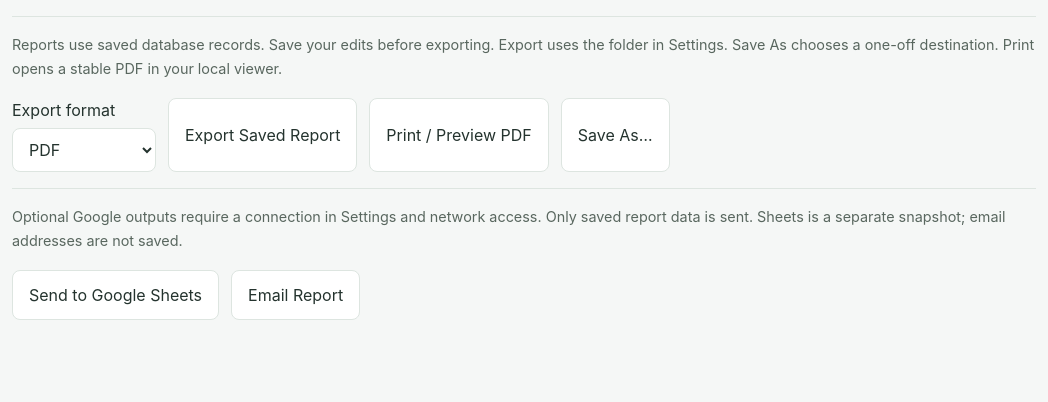
it: shows native cancellation and errors and sends only identifiers/filters
Select "CSV" in the dropdown labelled "Export format" at point(84, 150), box [12, 128, 156, 172]
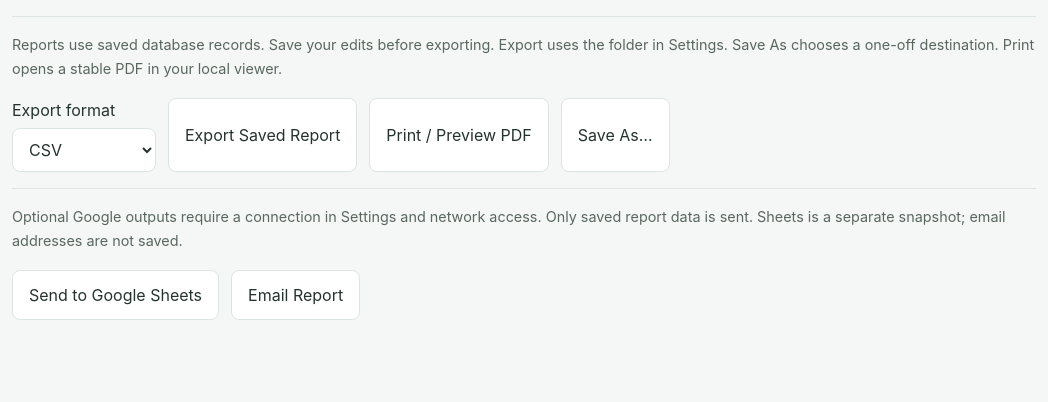
Click the button "Export Saved Report" at point(263, 135), box [168, 98, 357, 172]
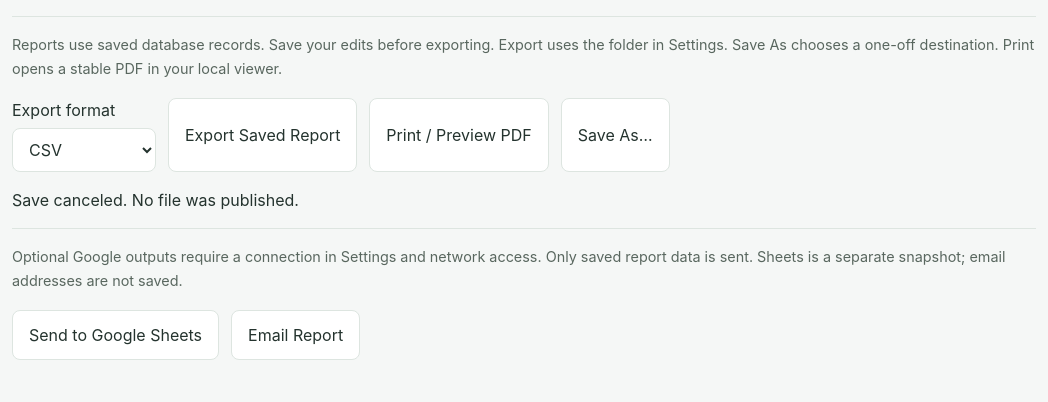
expect the text "Save canceled. No file was published." is shown: met, box [12, 190, 299, 210]
Click the button "Export Saved Report" at point(263, 135), box [168, 98, 357, 172]
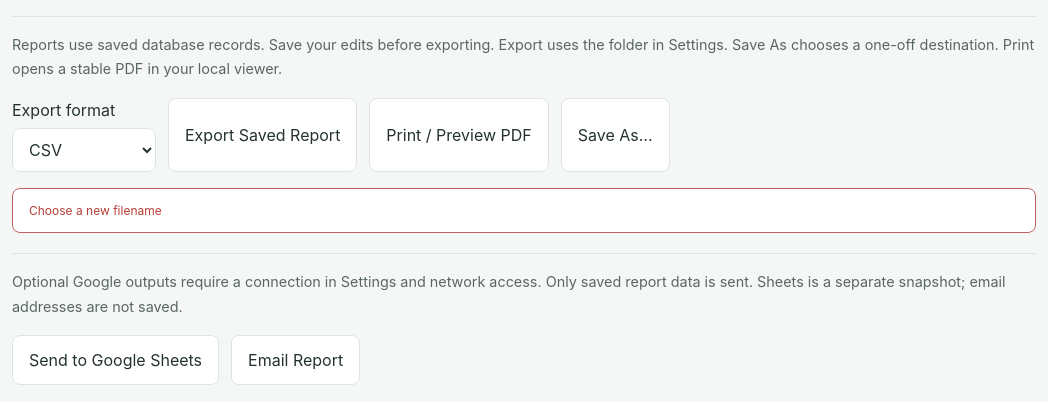
expect the message reads "Choose a new filename": met, box [29, 203, 162, 218]
